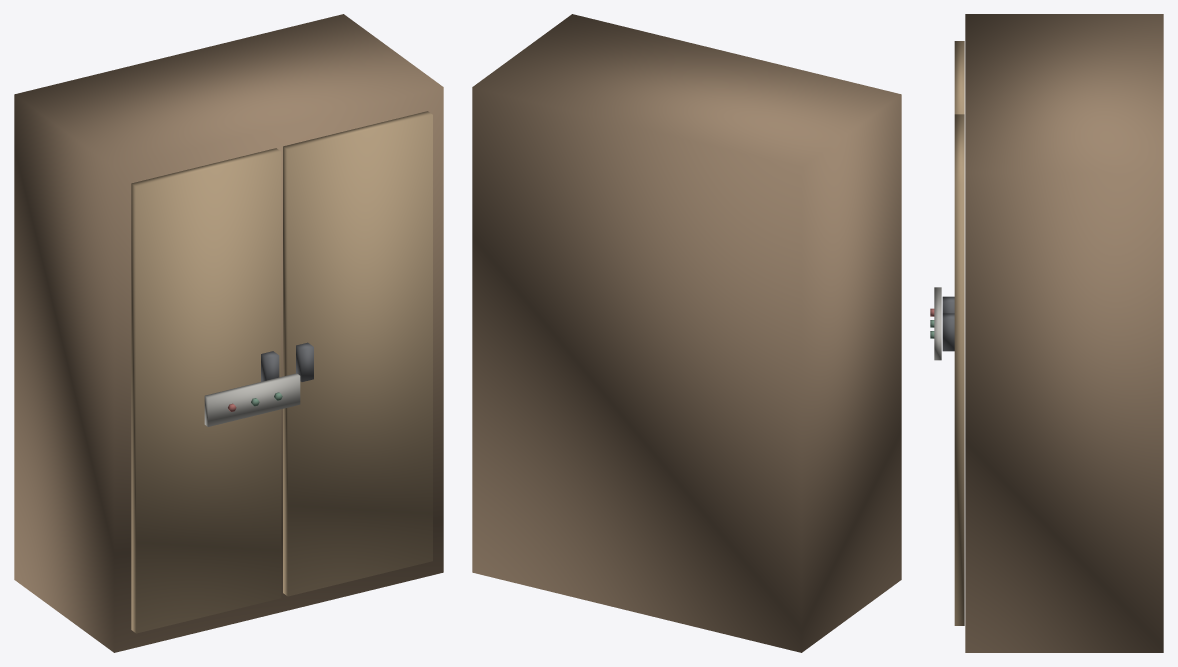
Rendered from kitchen_base_cabinet__reinforced.glb.
3 renders of one model, left to right at view 1: azimuth 30°, elevation 25°; view 2: azimuth 150°, elevation 25°; view 3: azimuth 270°, elevation 25°, orthographic.
Parts seen in each view (by area): view 1: world; view 2: world; view 3: world.
Part boxes in pixels (x1,y1,x2,y2): world: [14, 14, 443, 652]; world: [472, 14, 901, 652]; world: [930, 14, 1163, 652].
Bounding box in the file's own units: 0.9785 × 1.38 × 0.6062.
